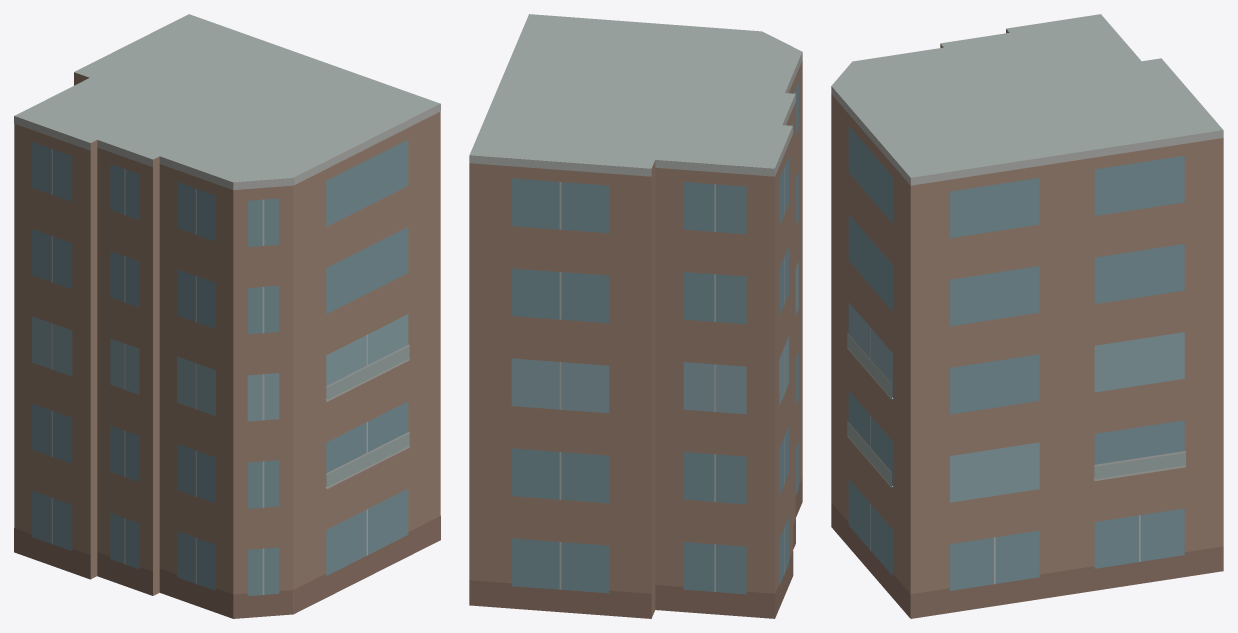
File: survey-upis-32624580.glb
The picture shows the model from 3 angles, left to right: view 1: azimuth 30°, elevation 25°; view 2: azimuth 150°, elevation 25°; view 3: azimuth 270°, elevation 25°; orthographic projection. The views are drawn at different scales.
Parts seen in each view (by area): view 1: survey-upis-32624580.tmp; view 2: survey-upis-32624580.tmp; view 3: survey-upis-32624580.tmp.
Part boxes in pixels (bbox=[...]): survey-upis-32624580.tmp: bbox=[14, 14, 440, 618]; survey-upis-32624580.tmp: bbox=[469, 14, 802, 618]; survey-upis-32624580.tmp: bbox=[831, 14, 1223, 618].
Size of the model in its own units: 11.09 by 13.9 by 11.22.
